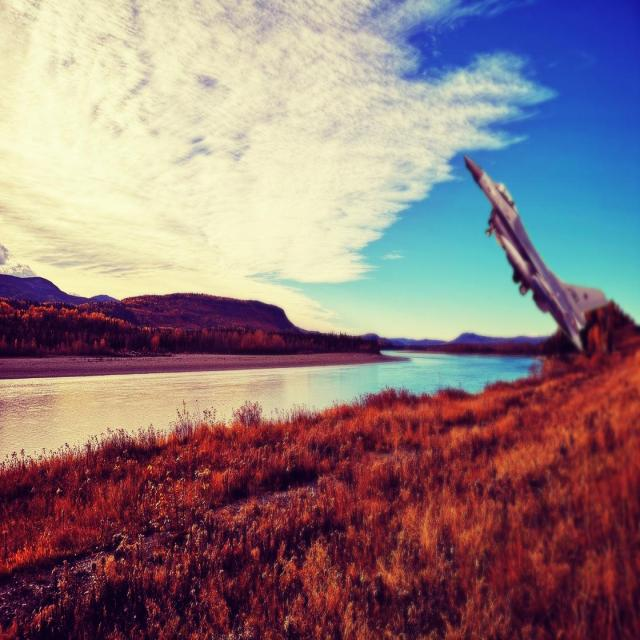airplane: (463, 154, 609, 352)
